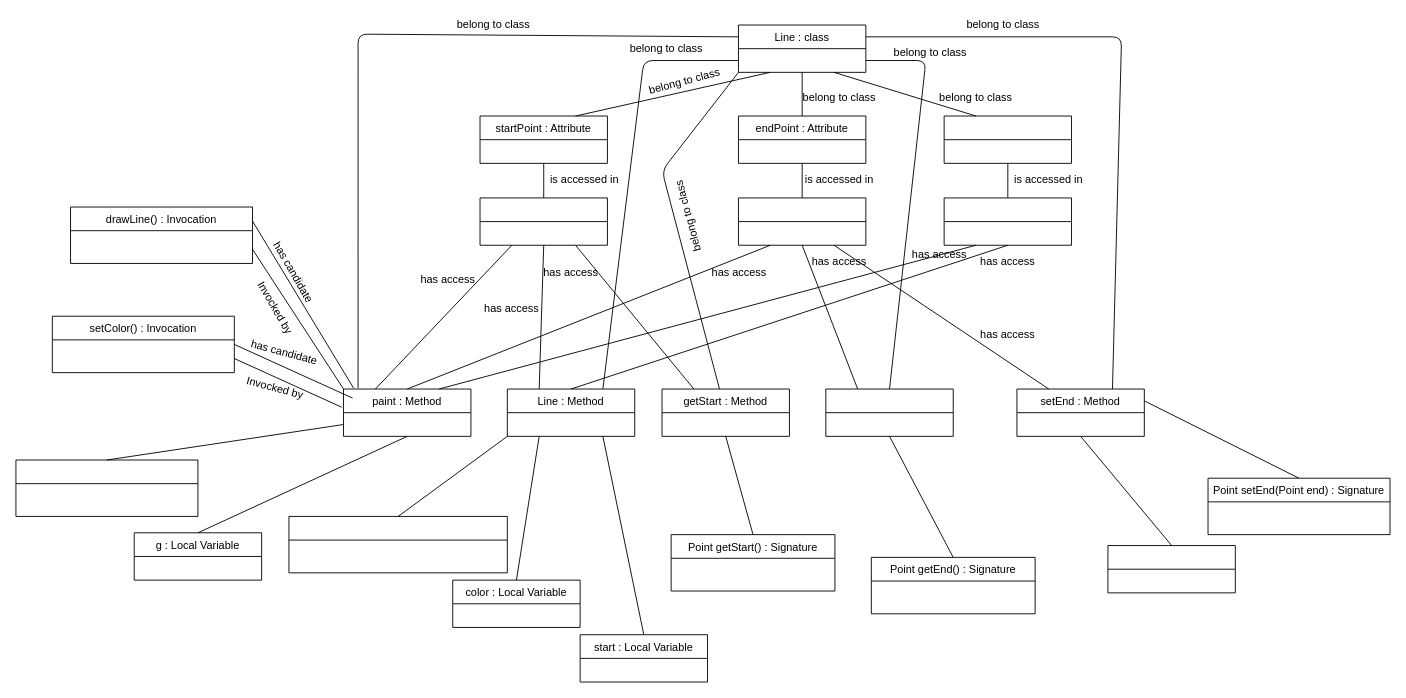
Image size: 1406x698. Some labels were removed from this diagram. Each missing label, with the centre of its shape:
"color : Access" belongs at (1007,221).
"color : Attribute" belongs at (1007,139).
"end : Local Variable" belongs at (1171,569).
"endPoint : Access" belongs at (802,221).
"getEnd : Method" belongs at (889,412).
"Line (Color color, Point start) : Signature" belongs at (397,544).
"startPoint : Access" belongs at (543,221).
"void paint(Graphics g) : Signature" belongs at (106,487).
